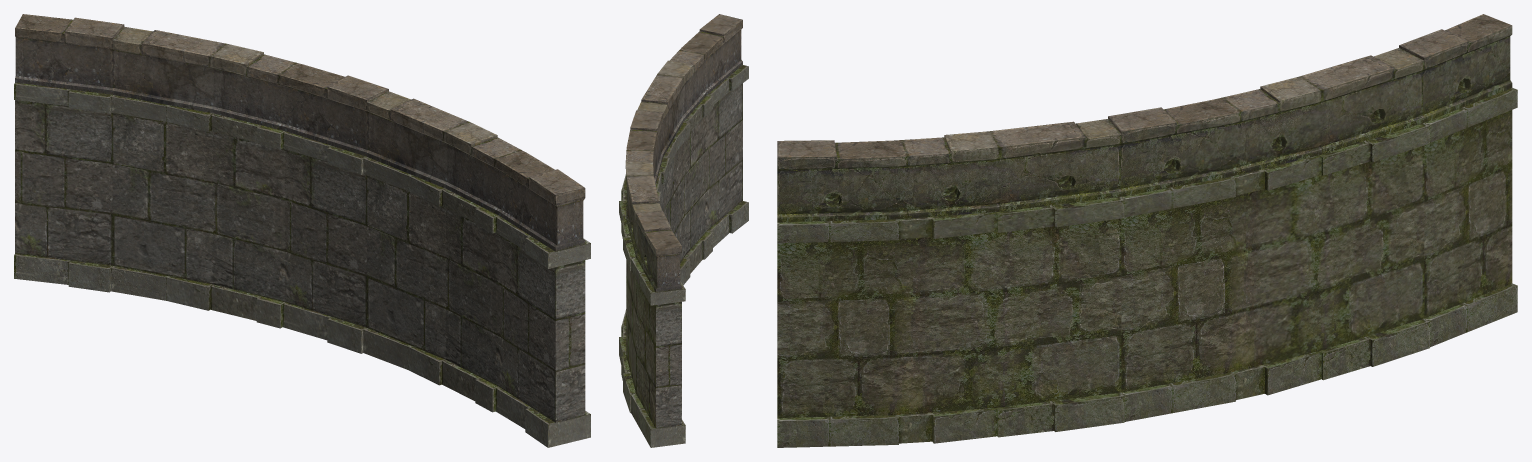
File: bg_lut_lutomb_wall02_sm_old.FBX
3 views of the same model, side by side, from view 1: azimuth 30°, elevation 25°; view 2: azimuth 150°, elevation 25°; view 3: azimuth 270°, elevation 25° (orthographic). The views are drawn at different scales.
Parts seen in each view (by area): view 1: bg_lut_lutomb_wall02_sm_old; view 2: bg_lut_lutomb_wall02_sm_old; view 3: bg_lut_lutomb_wall02_sm_old.
Boxes of the visible parts, x1,y1,x2,y2 form: bg_lut_lutomb_wall02_sm_old: (14, 14, 590, 447); bg_lut_lutomb_wall02_sm_old: (619, 14, 748, 447); bg_lut_lutomb_wall02_sm_old: (777, 14, 1517, 447).
Bounding box in the file's own units: 582 × 517 × 1207.
